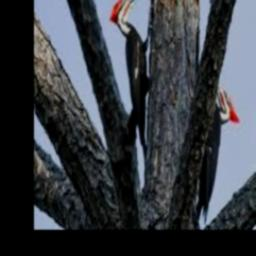Woodpecker: (110, 0, 153, 159), (197, 74, 240, 223)
